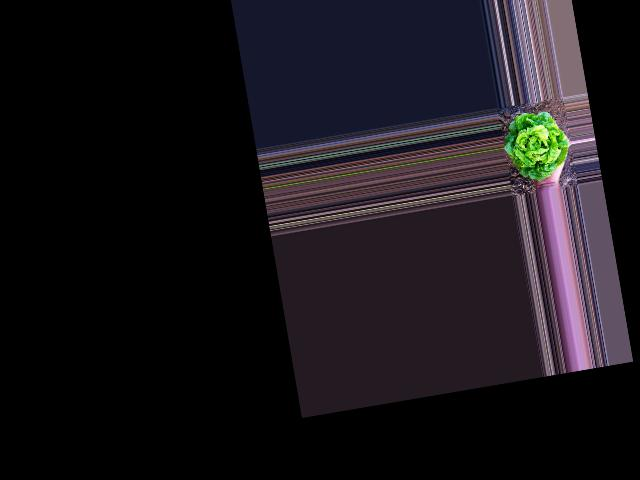lettuce: (500, 105, 572, 180)
